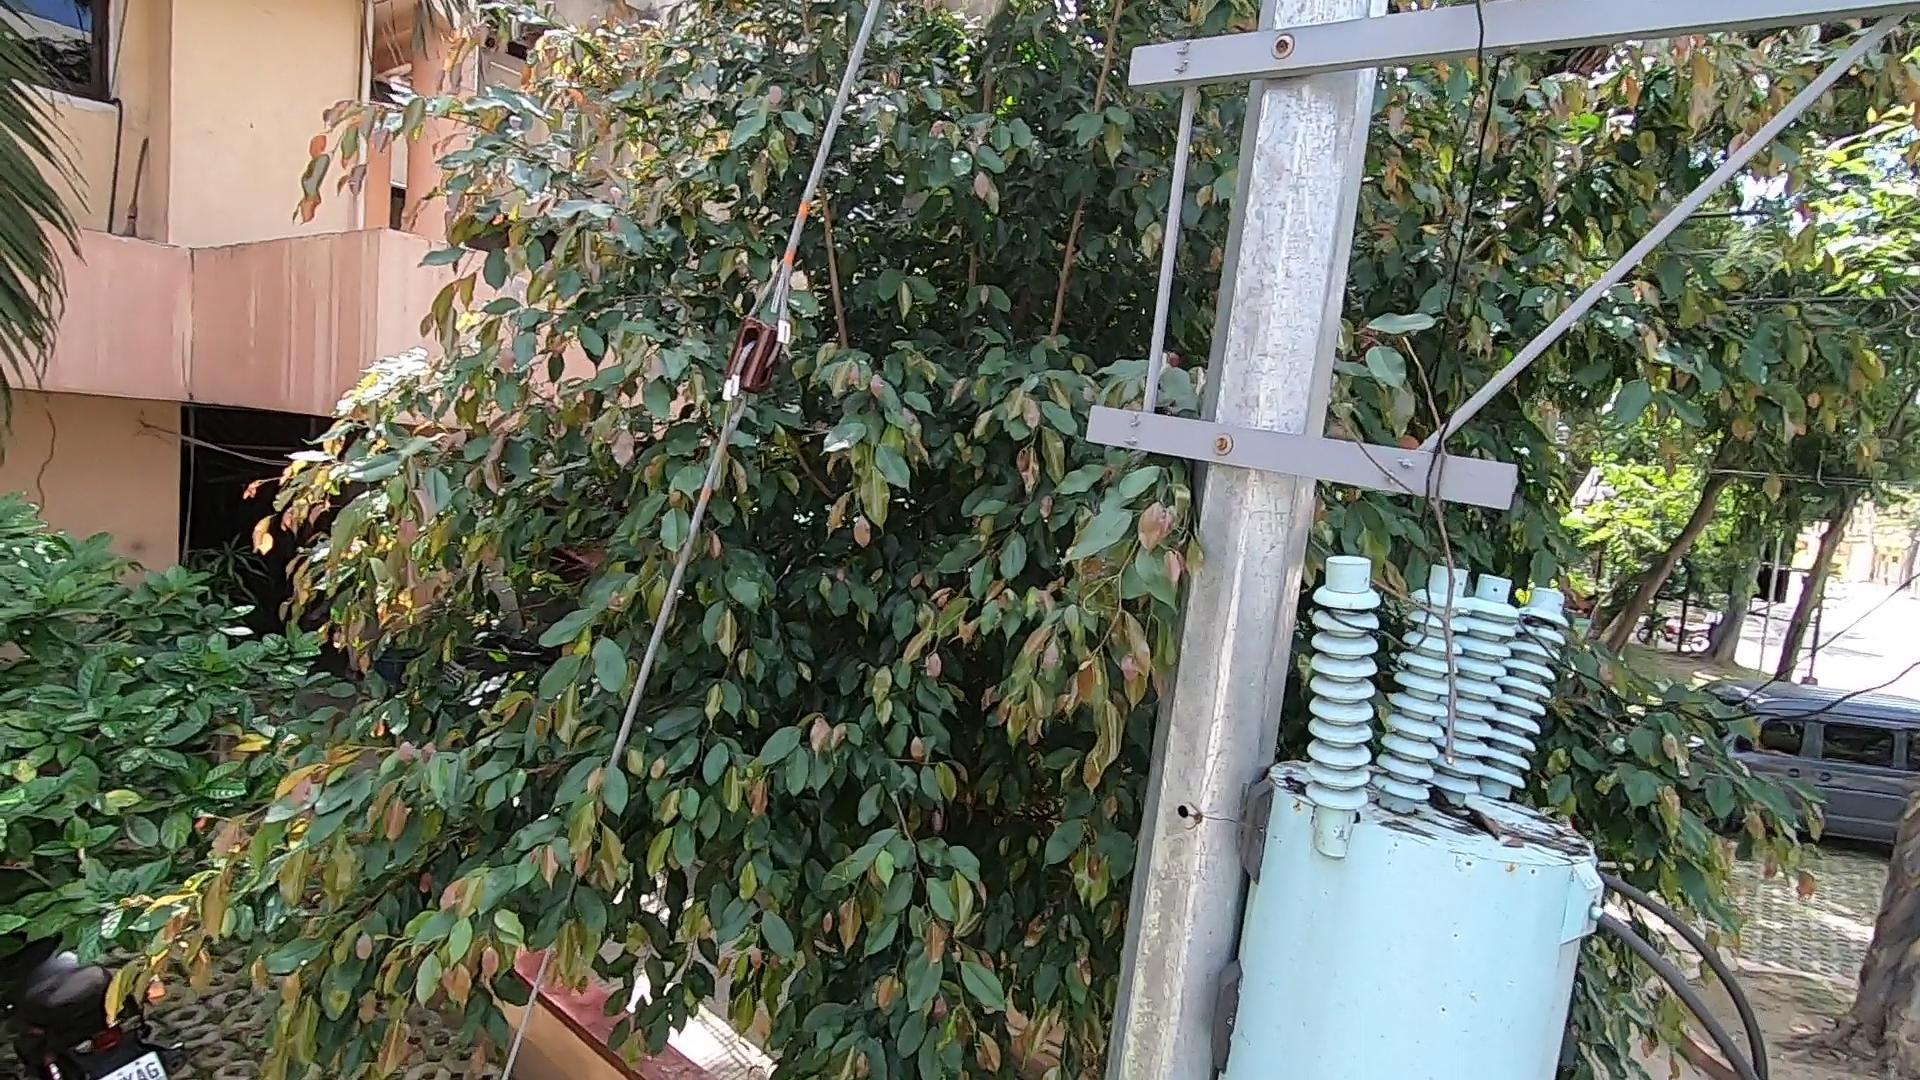leaf: (1419, 787, 1510, 851)
tree branch: (1344, 323, 1481, 773)
